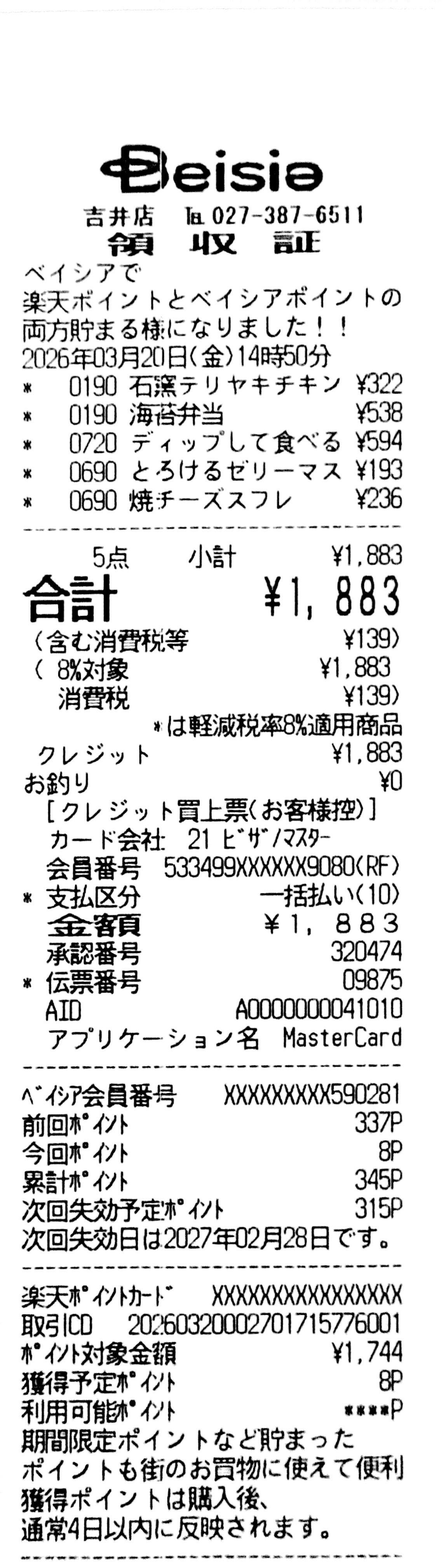Date: (22, 345, 187, 369)
Pay: (23, 574, 400, 622)
Shopname: (99, 144, 323, 193)
Telnum: (212, 205, 364, 225)
